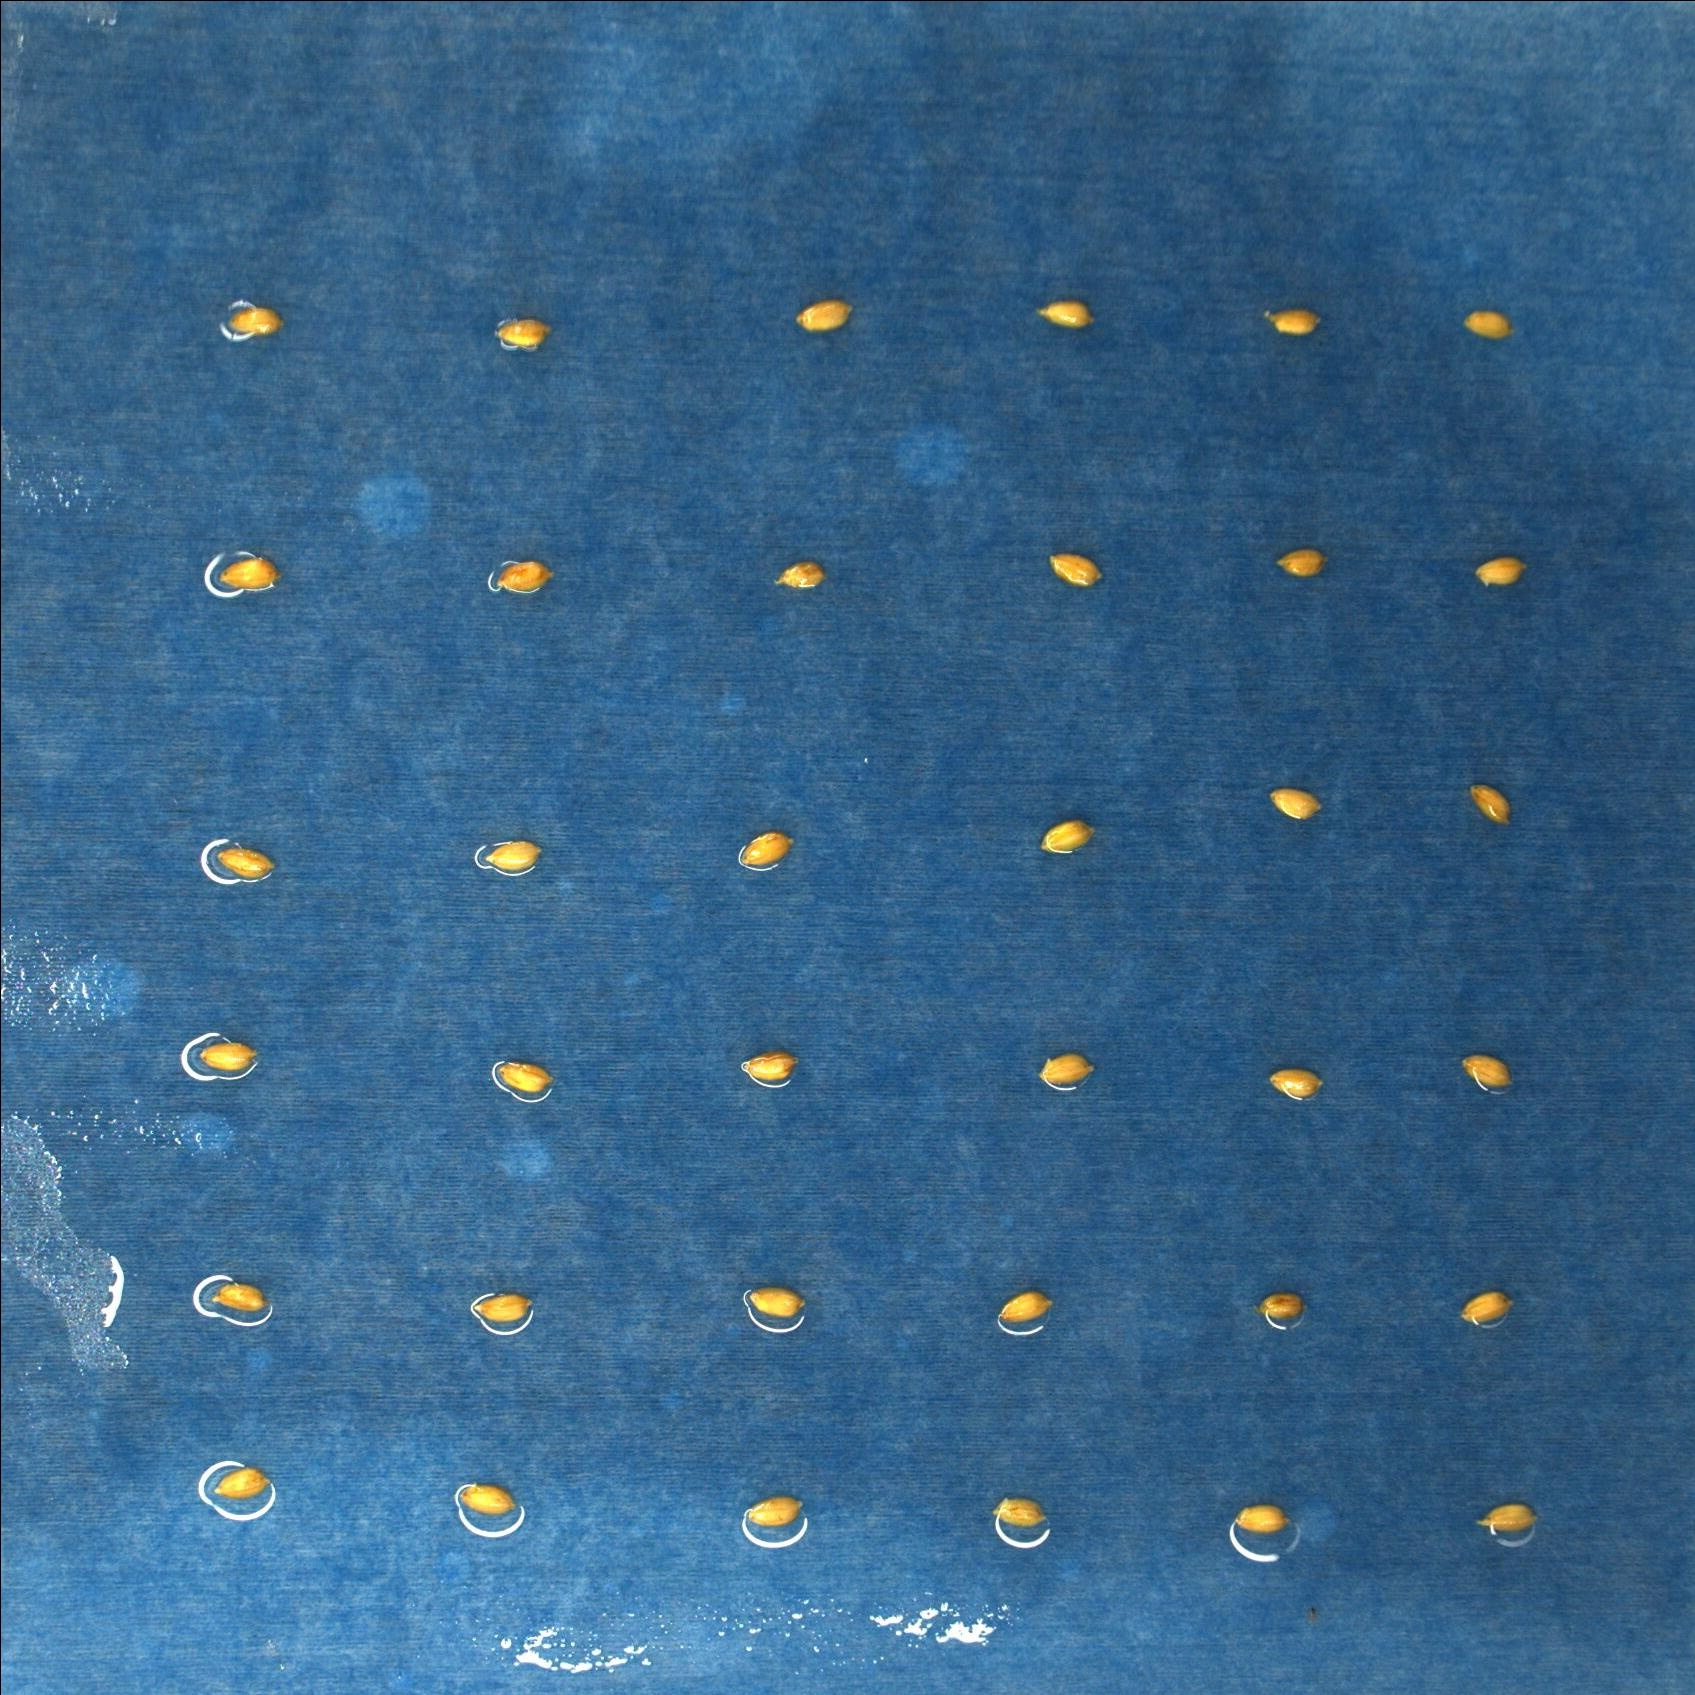not sprout: (494, 557, 556, 598), (1471, 1498, 1538, 1535), (1037, 816, 1097, 855), (995, 1287, 1055, 1326), (217, 557, 278, 594), (216, 841, 276, 879), (1048, 553, 1105, 591), (739, 1493, 804, 1527), (737, 832, 796, 869), (1267, 784, 1322, 823), (492, 317, 553, 352), (483, 837, 543, 872), (227, 306, 286, 341), (495, 1057, 554, 1093), (1467, 782, 1513, 827), (470, 1291, 537, 1322), (1037, 300, 1097, 334), (459, 1481, 515, 1516), (1461, 1049, 1512, 1088), (793, 298, 854, 331), (1262, 304, 1322, 337), (1459, 1291, 1516, 1326), (1468, 556, 1530, 587), (196, 1040, 258, 1071), (737, 1048, 799, 1079), (747, 1284, 806, 1316), (992, 1495, 1049, 1527), (1040, 1052, 1099, 1083), (1267, 1066, 1322, 1099), (208, 1465, 265, 1496), (1231, 1503, 1288, 1534), (1461, 310, 1520, 340), (1274, 546, 1330, 577), (773, 560, 826, 591), (211, 1281, 262, 1312), (1259, 1291, 1302, 1319)
